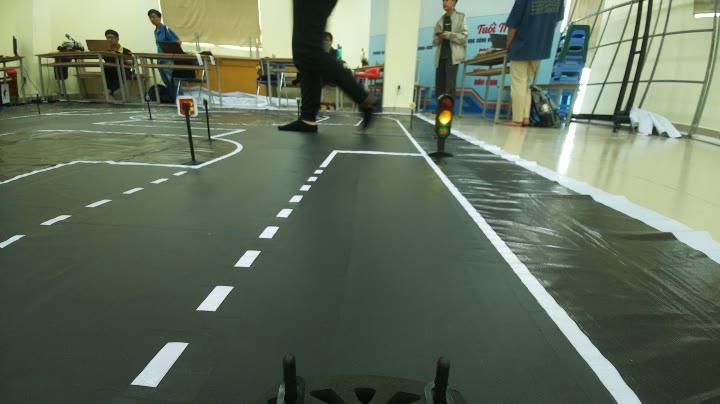trafficlight: (420, 86, 460, 164)
